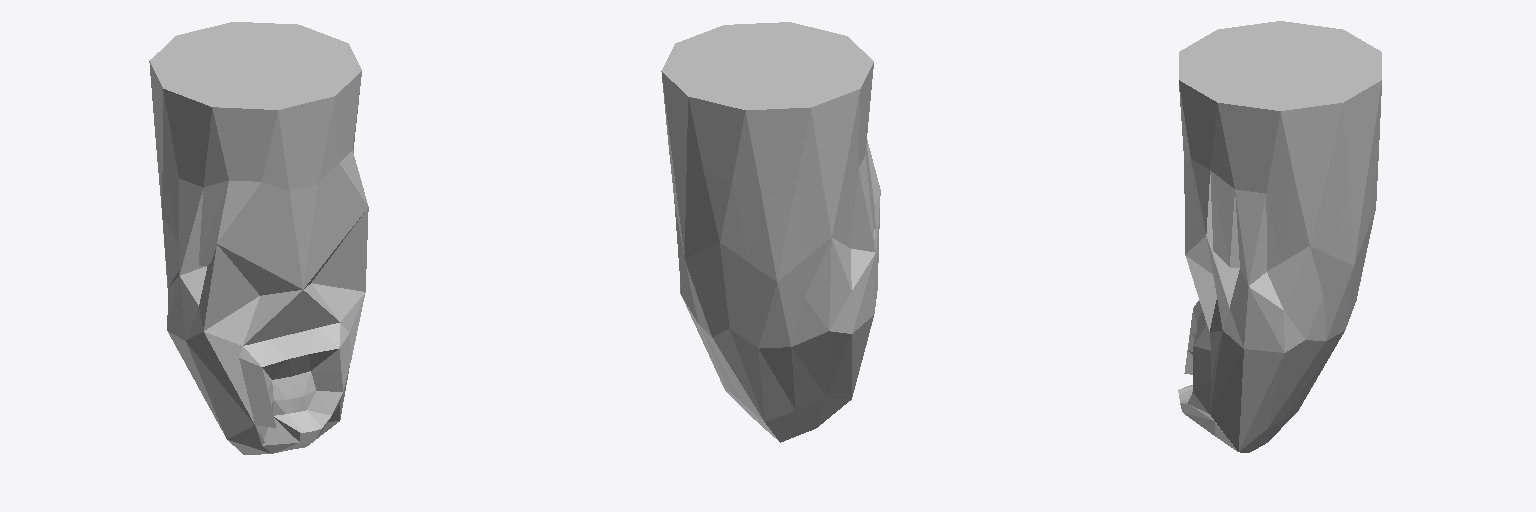
The model's file is tiki_firing_3.obj.
3 views of the same model, side by side, from view 1: azimuth 30°, elevation 25°; view 2: azimuth 150°, elevation 25°; view 3: azimuth 270°, elevation 25° (orthographic).
Visible parts, largest first — view 1: Icosphere.004; view 2: Icosphere.004; view 3: Icosphere.004.
Boxes of the visible parts, x1=… form: Icosphere.004: x1=149, y1=22, x2=368, y2=454; Icosphere.004: x1=661, y1=22, x2=880, y2=442; Icosphere.004: x1=1178, y1=21, x2=1381, y2=452.
Bounding box in the file's own units: 1.29 × 2.53 × 1.24.